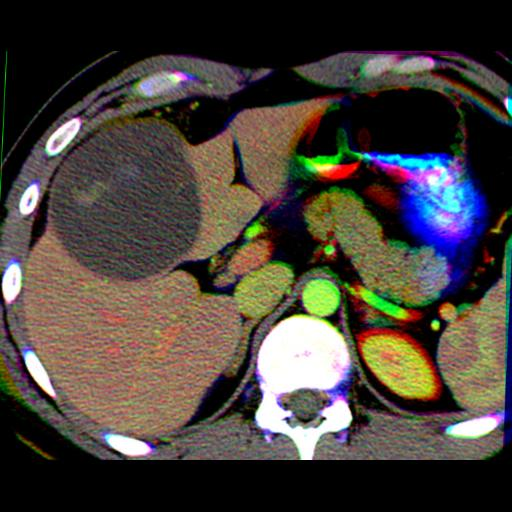Cyst: (48, 121, 200, 279)
